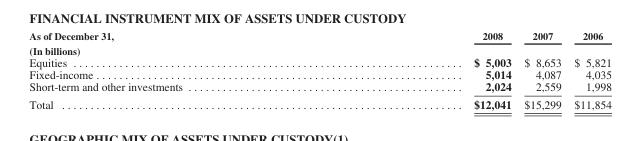table: (28, 29, 610, 110)
table column: (28, 29, 327, 110), (327, 29, 517, 110), (517, 29, 567, 110), (567, 29, 610, 110)
table column header: (28, 29, 610, 42)
table projected row header: (28, 42, 610, 55)
table row: (28, 94, 610, 110), (28, 80, 610, 94), (28, 29, 610, 42), (28, 42, 610, 55), (28, 55, 610, 68), (28, 68, 610, 80)
